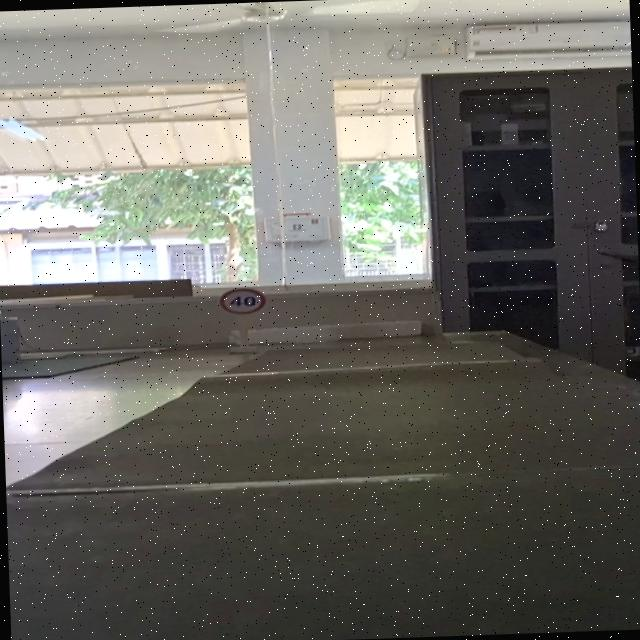Speed40: (217, 284, 268, 316)
